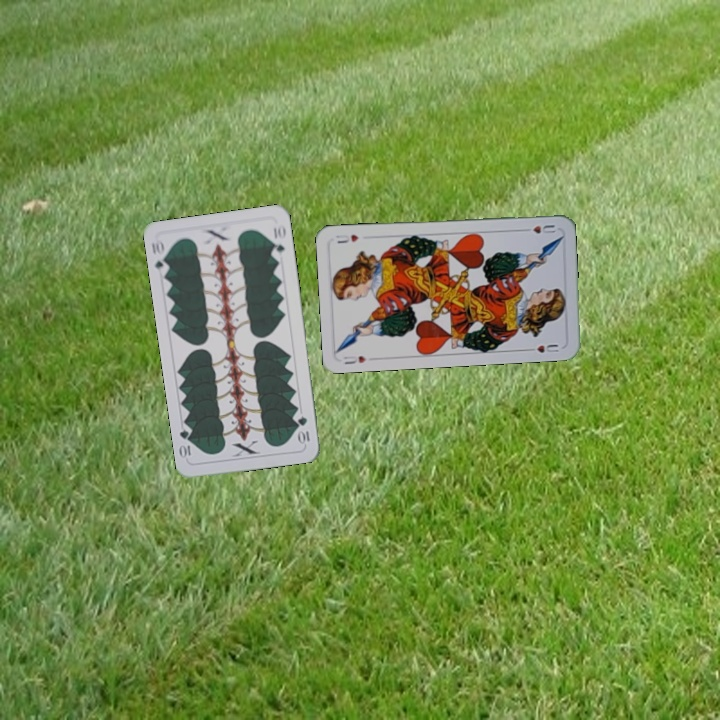G10: (147, 235, 171, 277), (294, 412, 312, 446)
HU: (519, 221, 558, 236), (340, 352, 368, 367)
